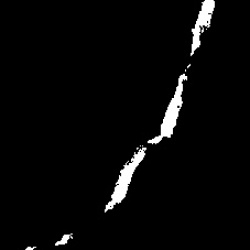crack: (101, 3, 218, 215), (54, 233, 73, 245)
